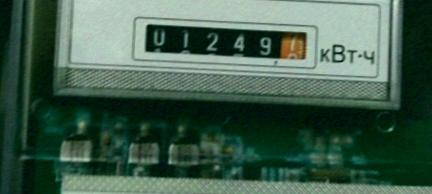0: (151, 28, 166, 48)
1: (178, 29, 191, 51)
2: (203, 31, 220, 54)
4: (232, 33, 246, 53)
7: (286, 33, 300, 53)
9: (258, 36, 272, 58)
screen: (128, 13, 322, 73)
